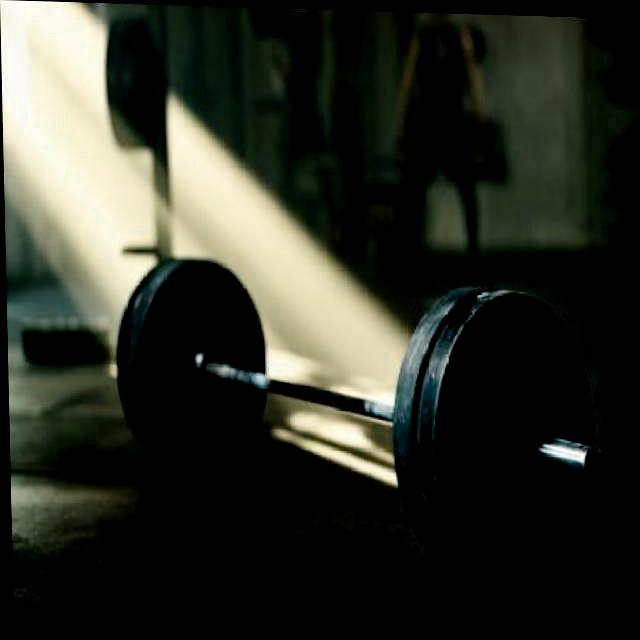barbell: (420, 273, 624, 600)
